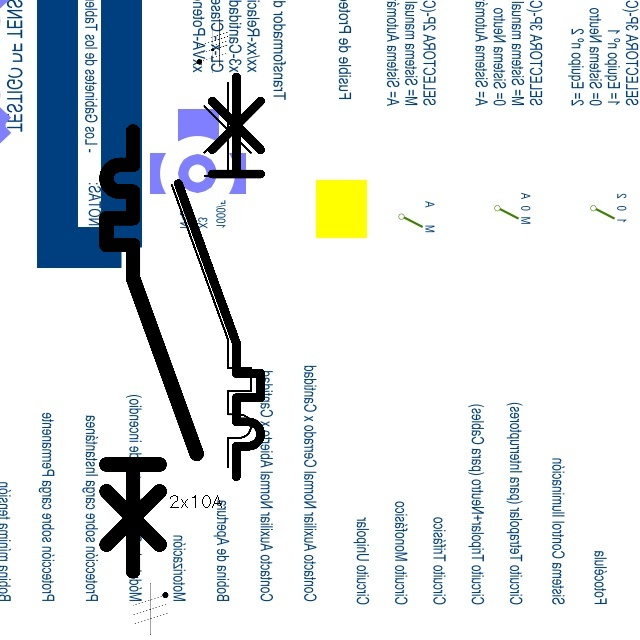interruptor_termomagnetico: (95, 120, 208, 582), (168, 66, 271, 486), (162, 72, 261, 476)
